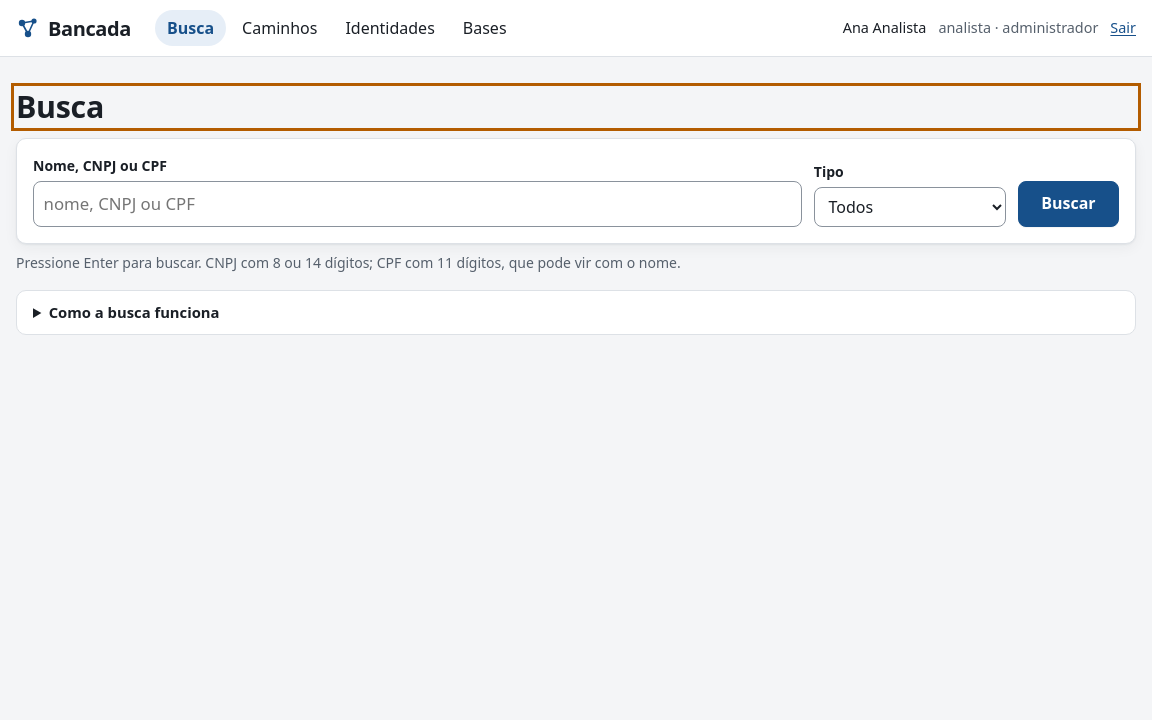
Test: App › menu leva à fila de identidades e à situação das bases
What coordinates should you click on to do the following:
click the link "Identidades"
I would click on:
 (390, 28)
Its box is [345,17,435,39].
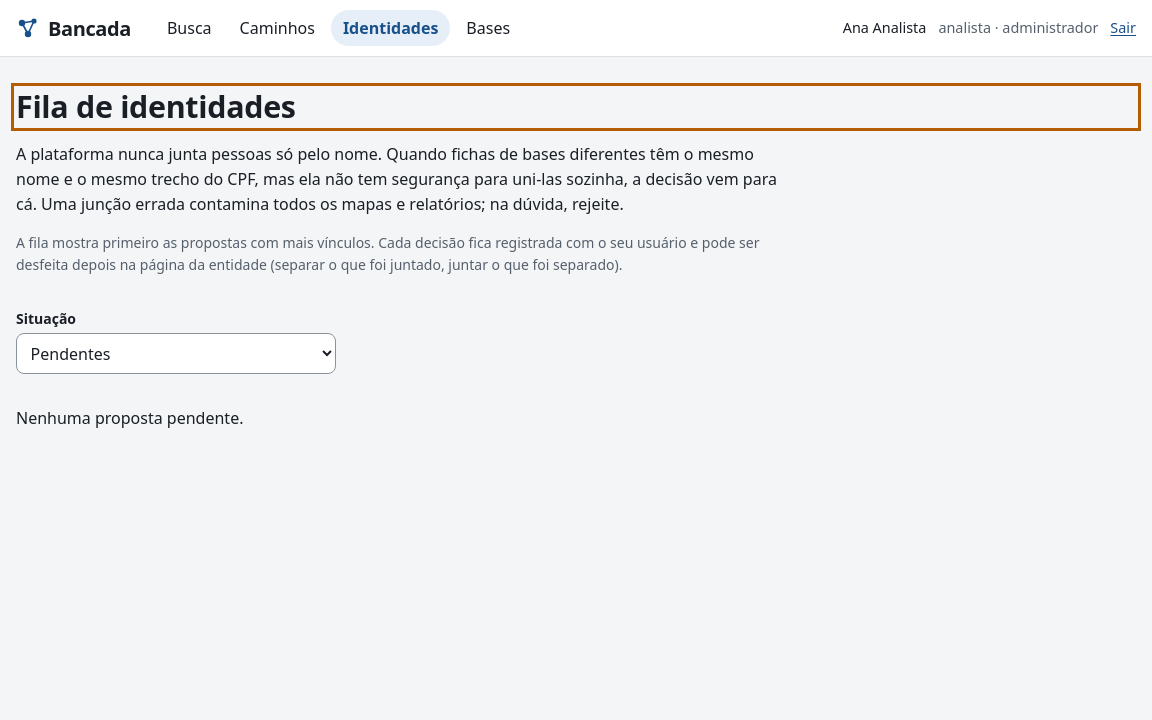
Result: the heading "Fila de identidades" is shown at [16,86,296,127]
What coordinates should you click on to do the following:
click the link "Bases"
I would click on:
 (488, 28)
Its box is [466,17,510,39].
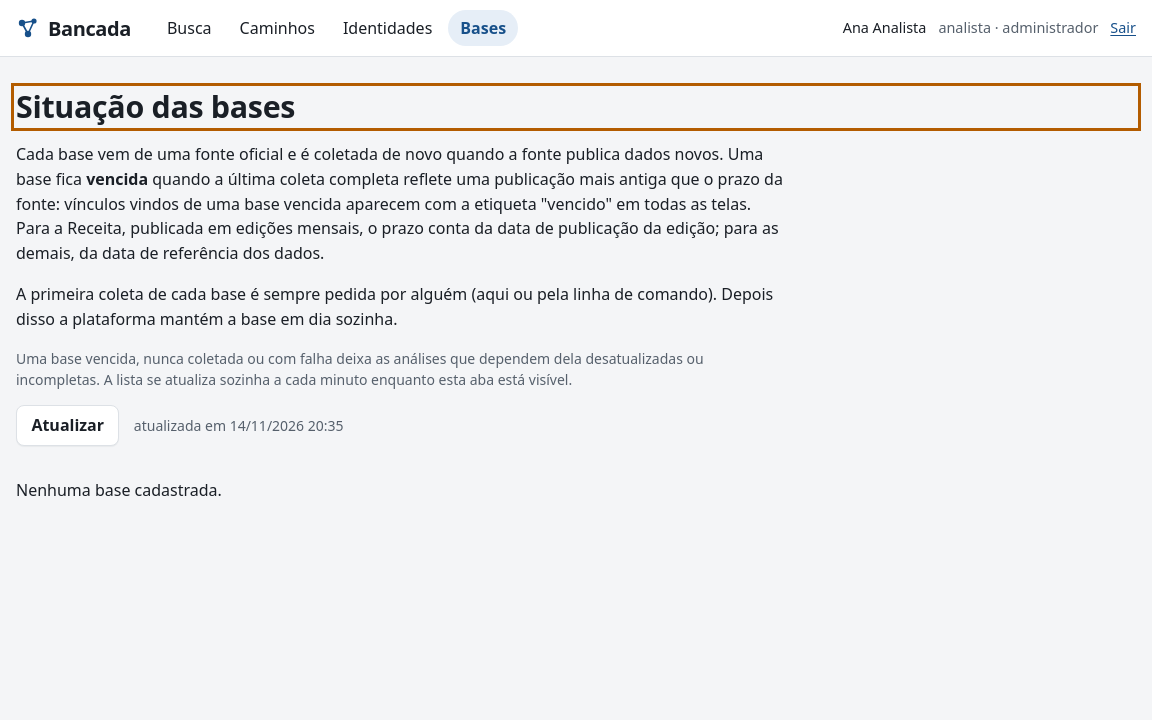
Result: the heading "Situação das bases" is shown at [16,86,295,127]
